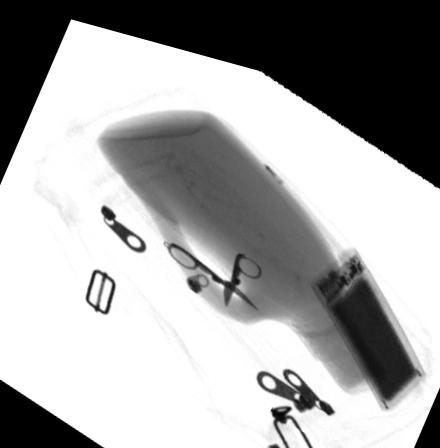Powerbank: (305, 223, 427, 391)
Scissors: (166, 229, 261, 297)
